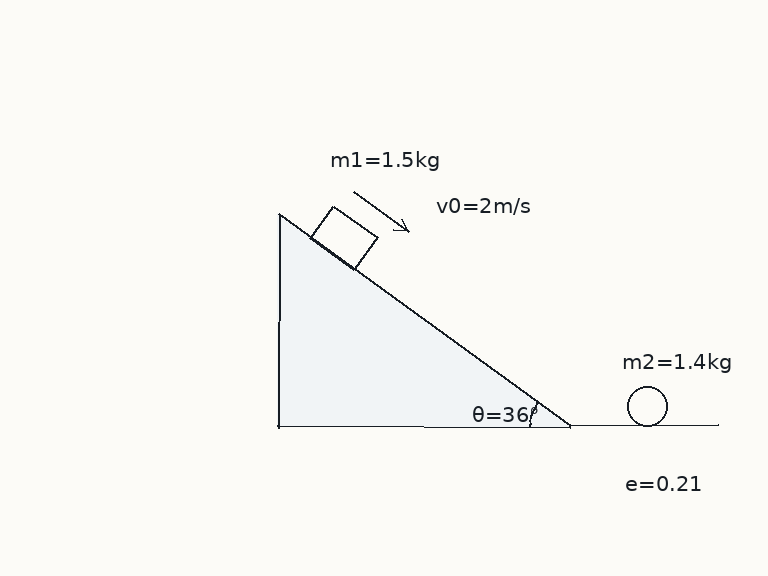ball: (625, 384, 669, 428)
block: (309, 204, 379, 271)
ramp: (276, 212, 572, 428)
